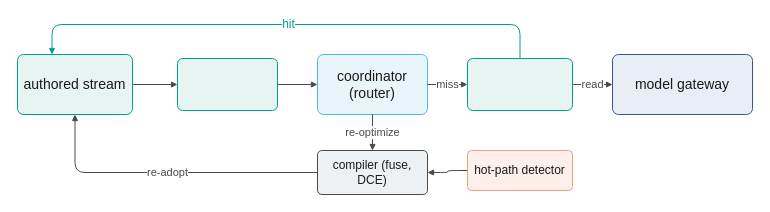
Image size: 770x212. Some labels were removed from this diagram. The centre of each missing label's shape, as x and y in pixels:
"security gate" belongs at point (227, 84).
"typed result cache" belongs at point (519, 84).
